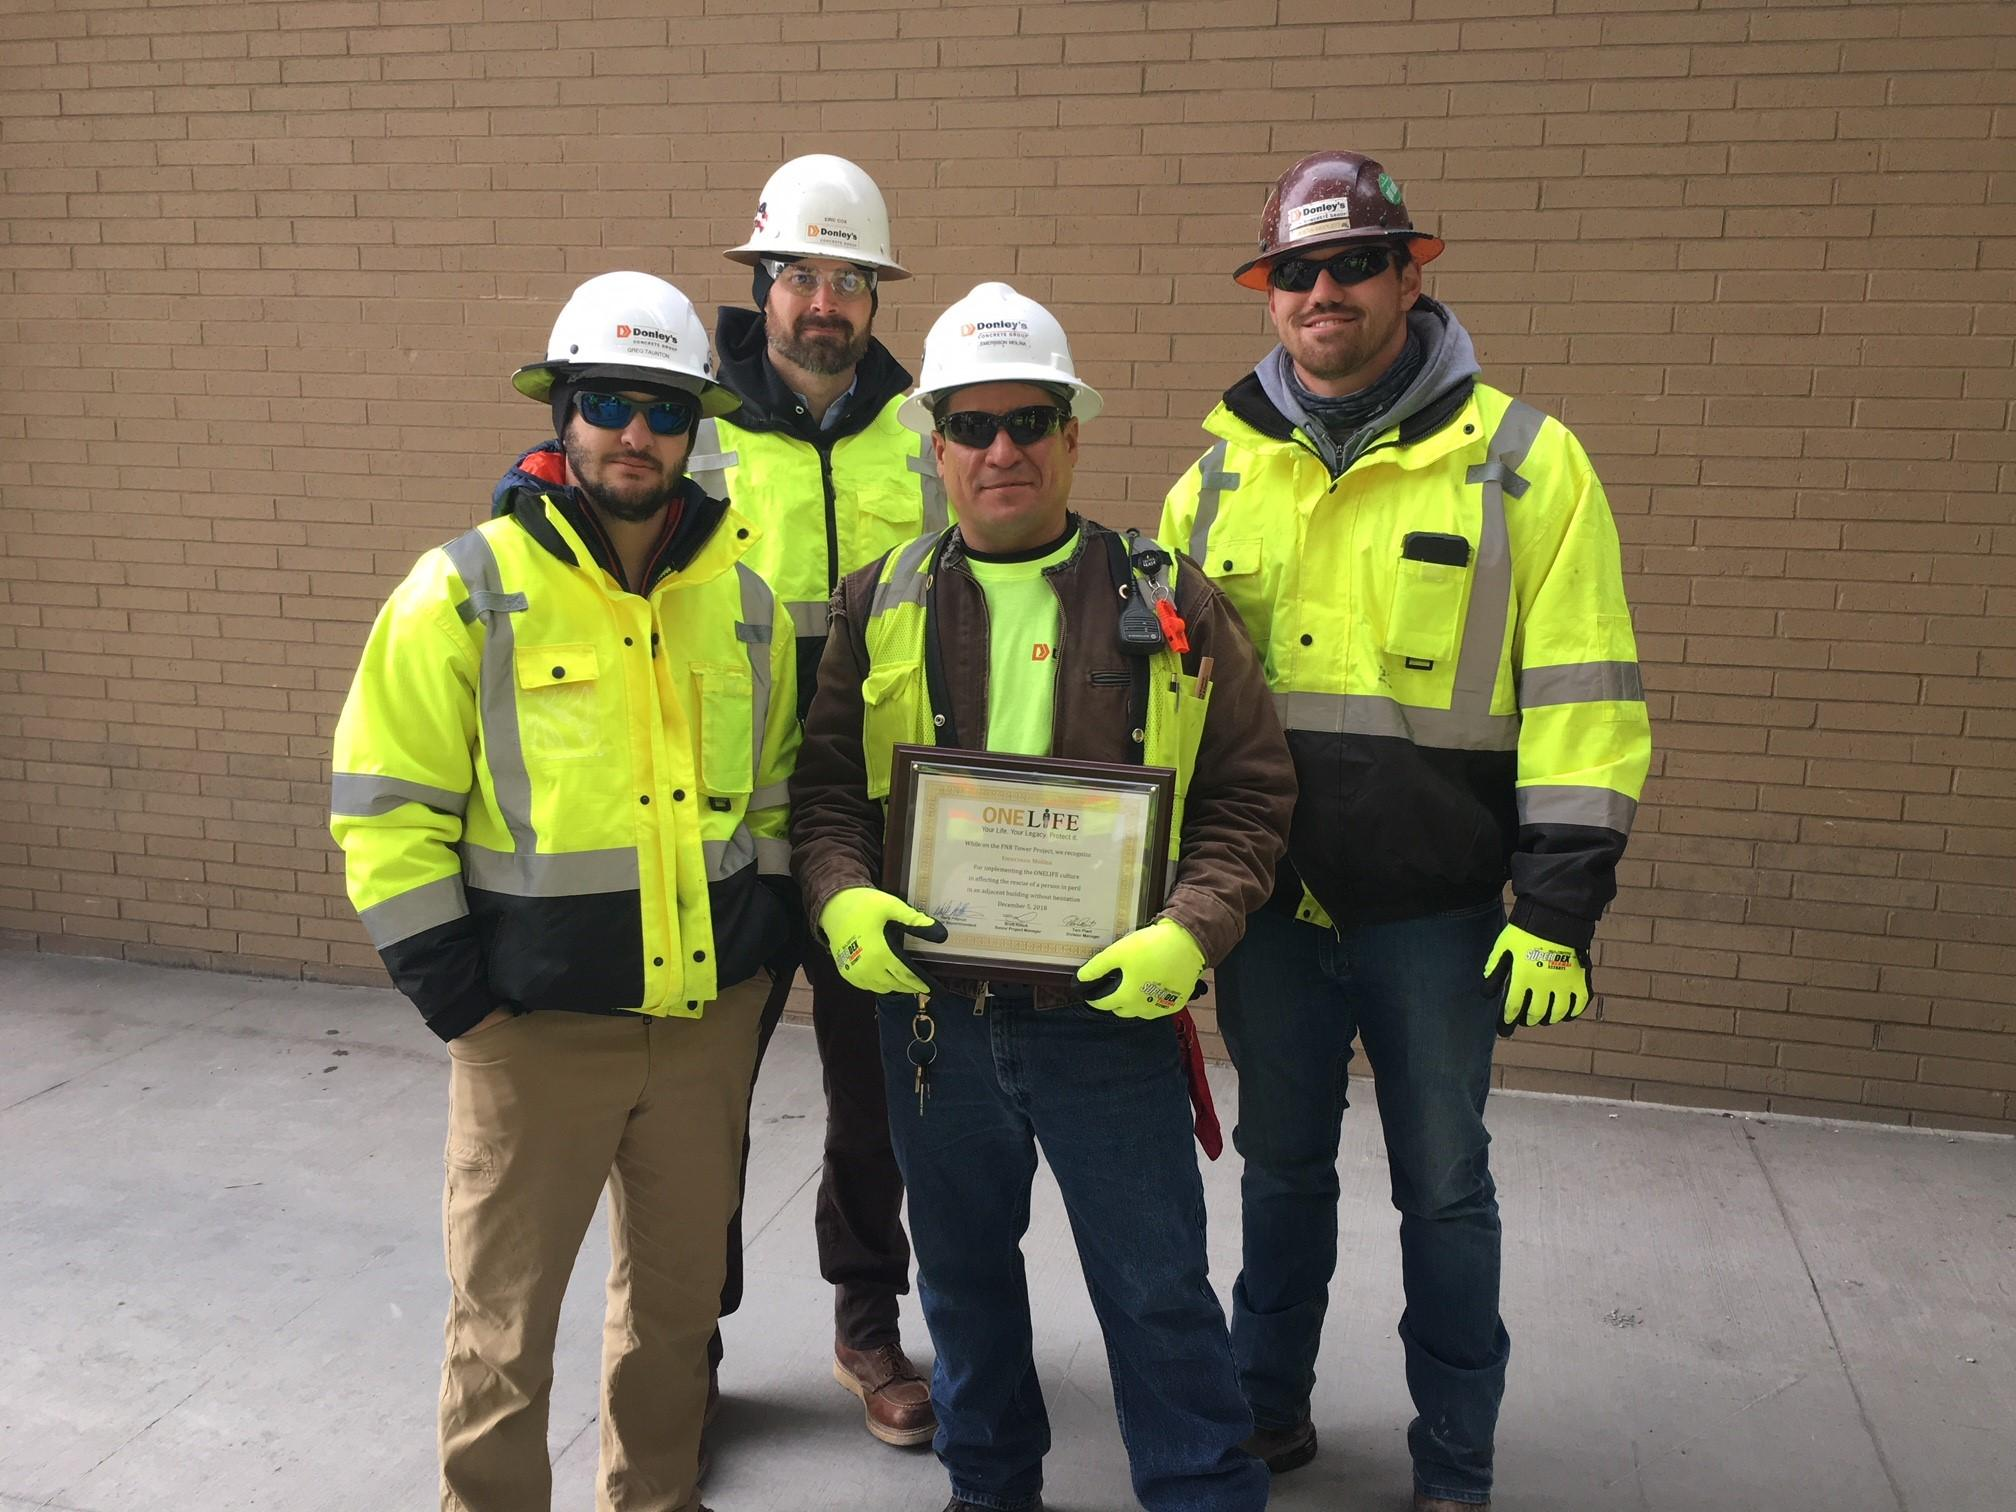helmet: (524, 264, 724, 411), (911, 281, 1102, 426), (1241, 151, 1440, 272), (741, 159, 911, 280)
